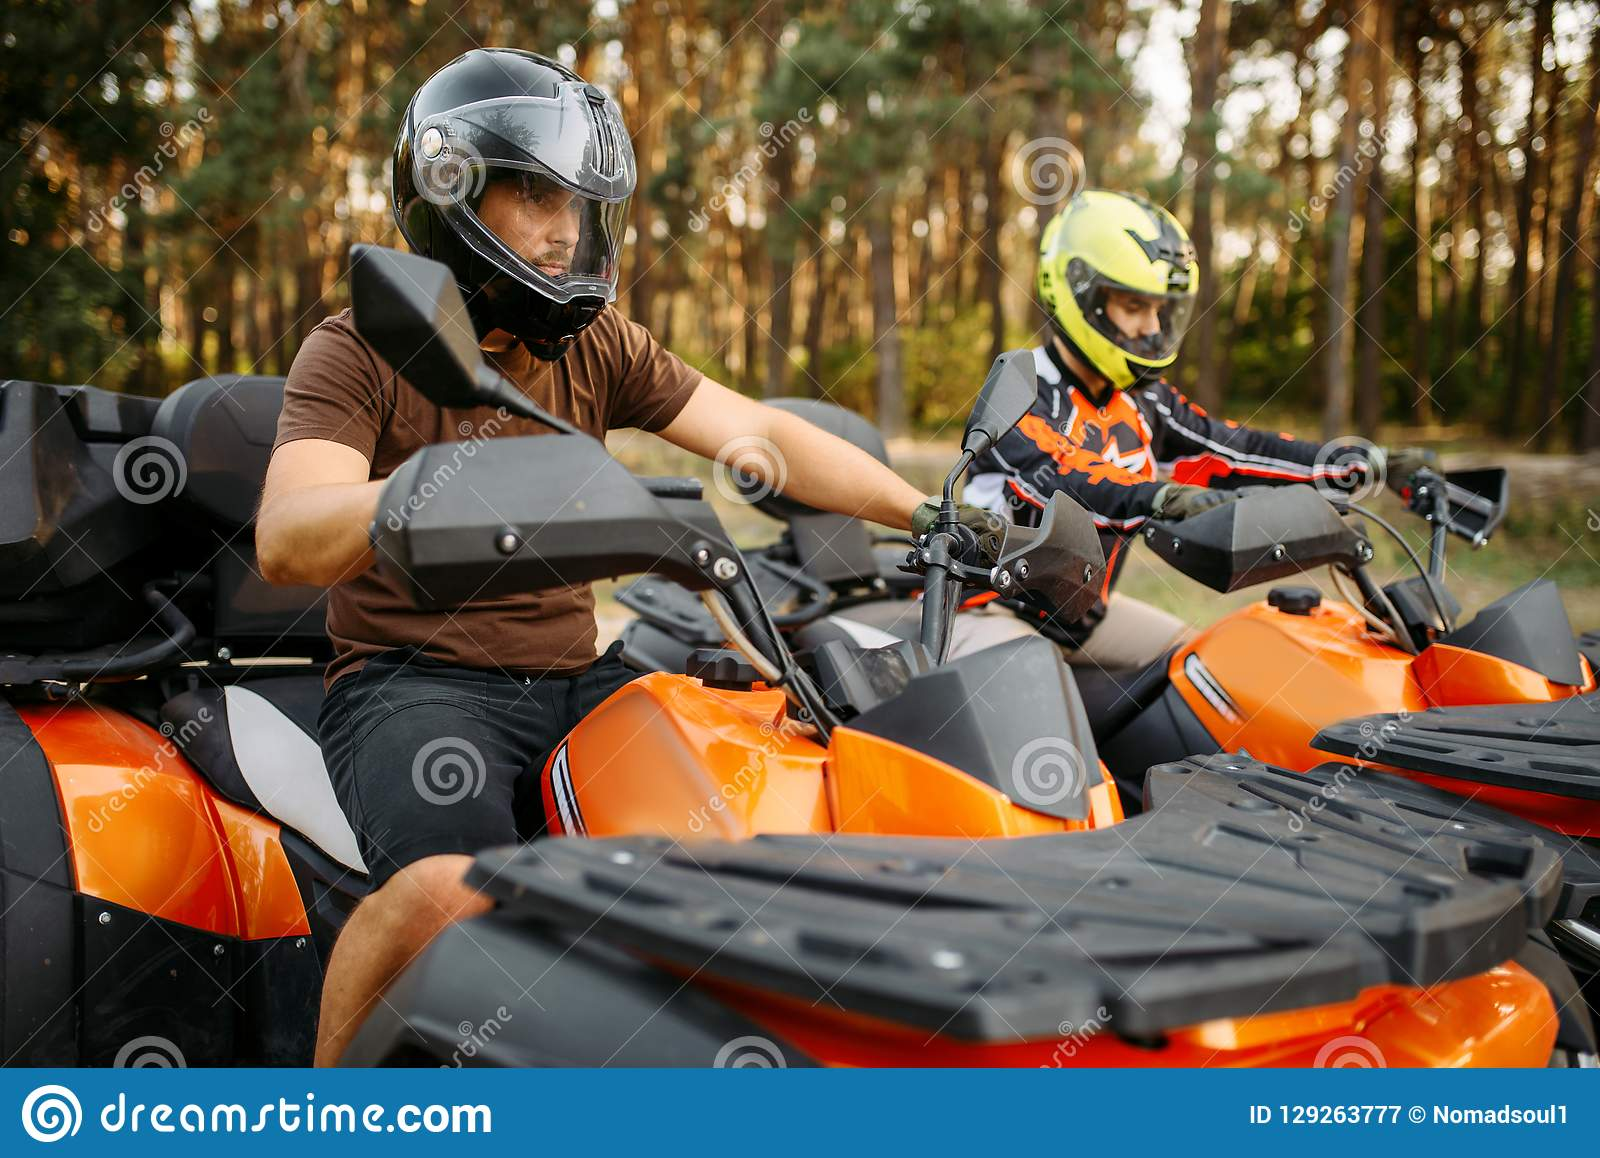helmet: (399, 47, 629, 358), (1034, 193, 1207, 378)
